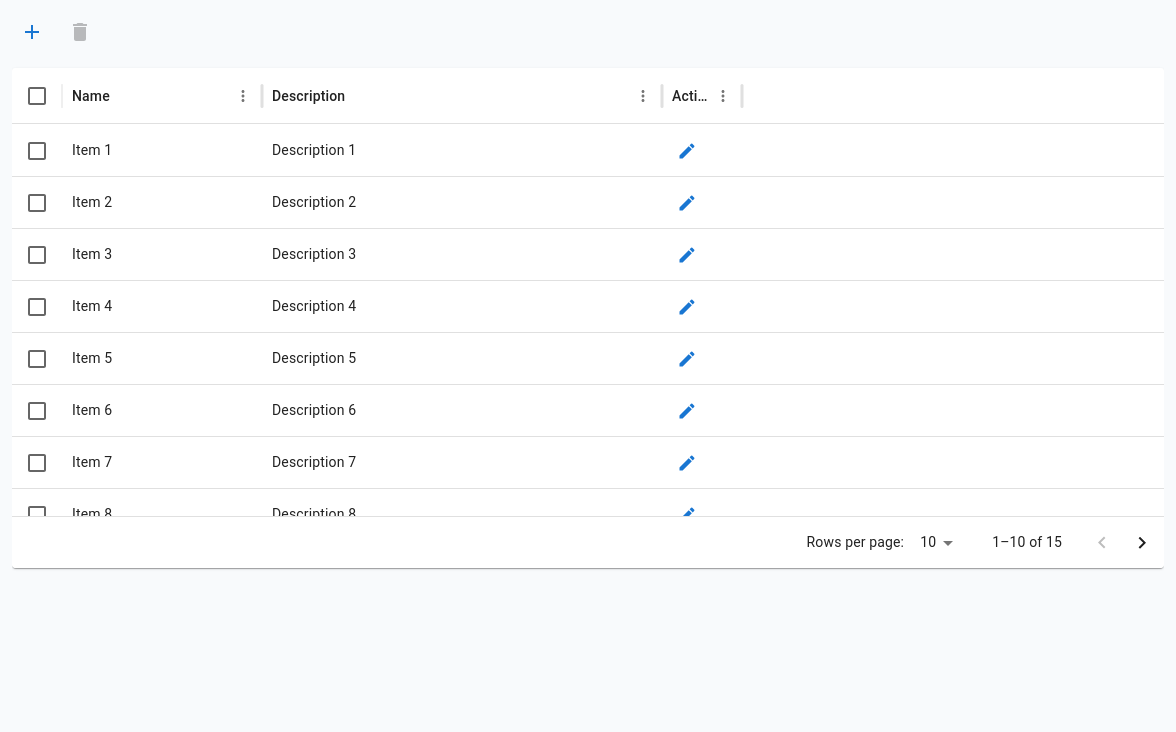
Test: DataGridClient › Pagination › enables previous button and disables next when on last page
What coordinates should you click on to do the following:
click the button named "next page"
I would click on:
 (1142, 542)
Its box is [1122,522,1162,562].
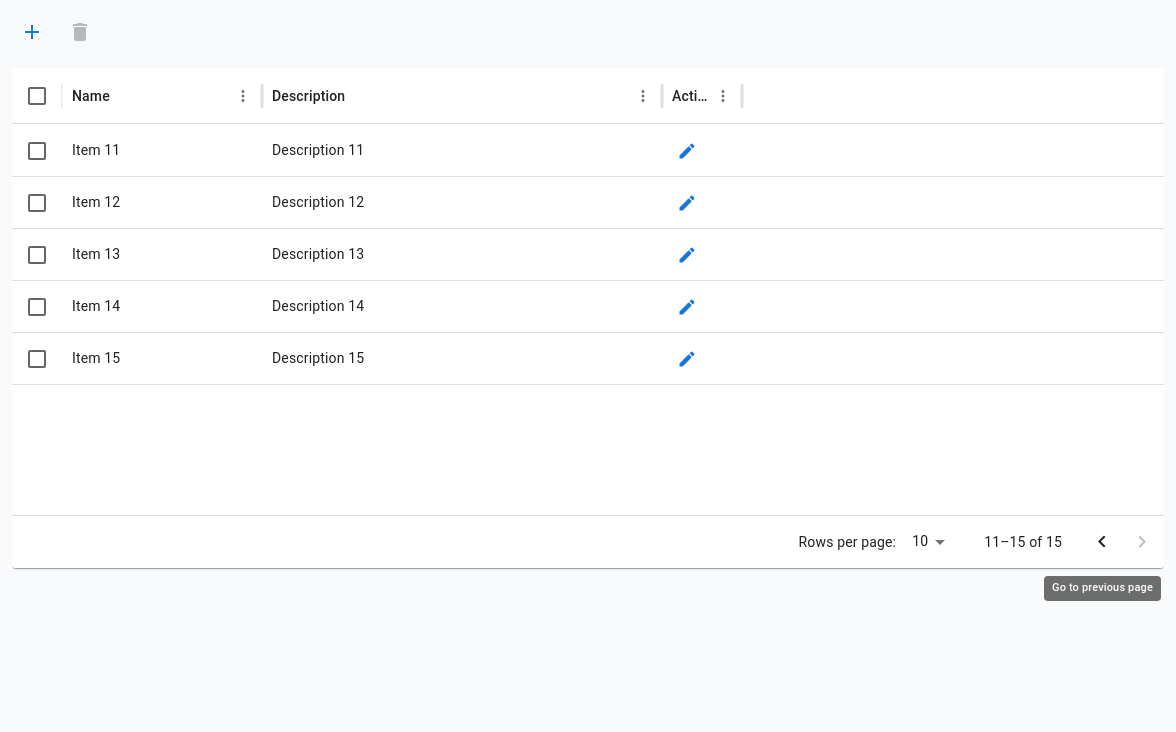
expect the button named "previous page" is enabled: met, box [1082,522,1122,562]
expect the button named "next page" is disabled: met, box [1122,522,1162,562]
